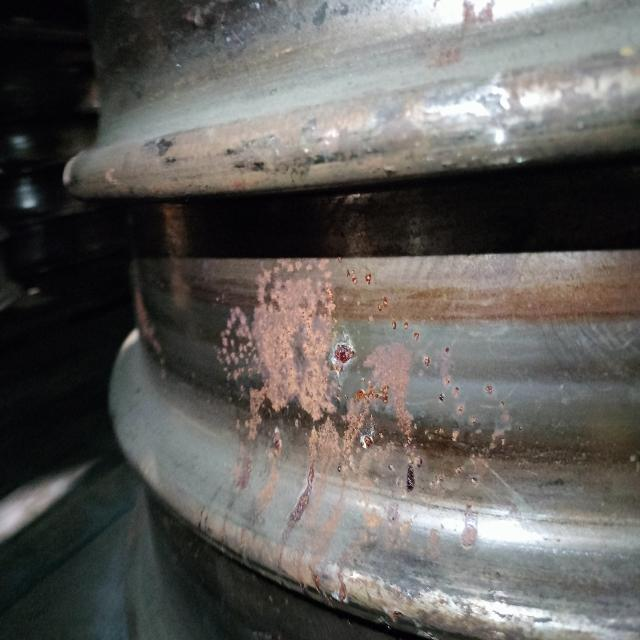Blue hole: (396, 458, 422, 512), (331, 340, 358, 372)
